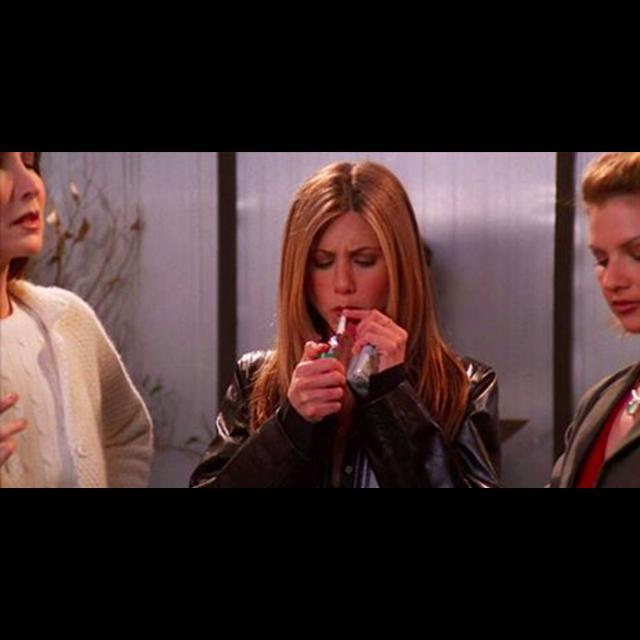rokok: (331, 310, 352, 338)
